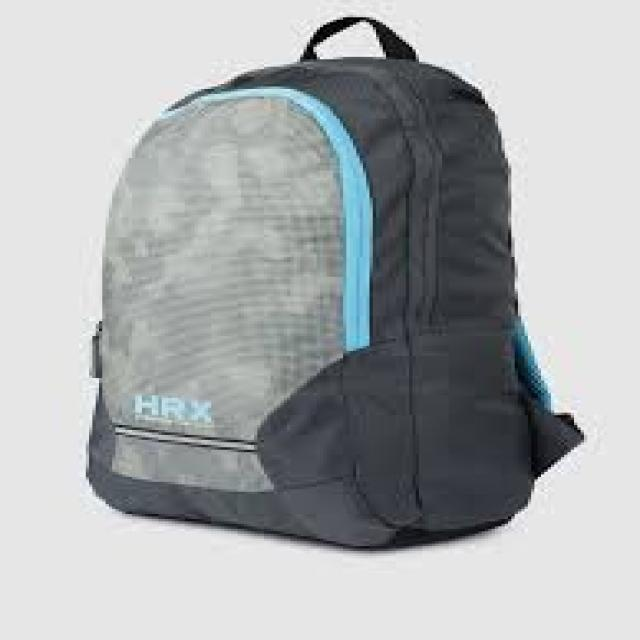backpack: (83, 16, 585, 549)
